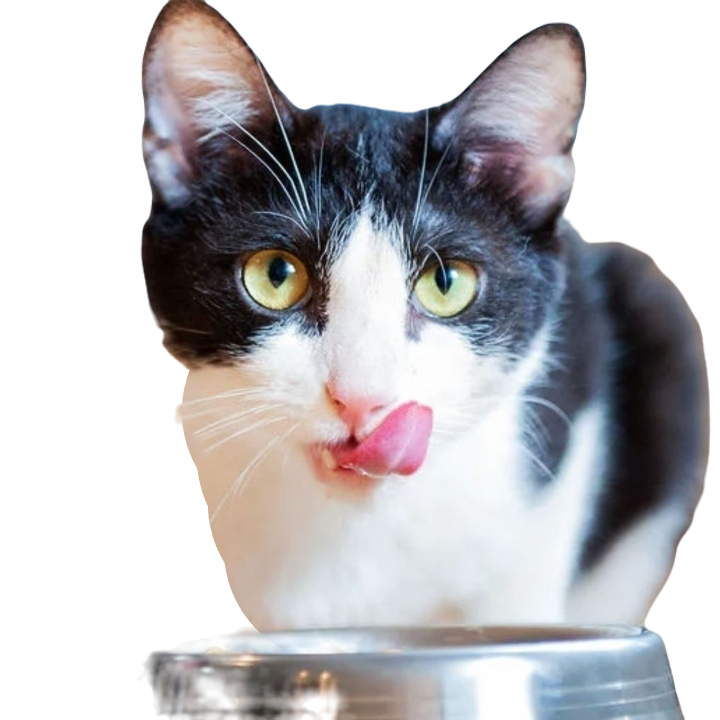Cat: (122, 0, 719, 719)
